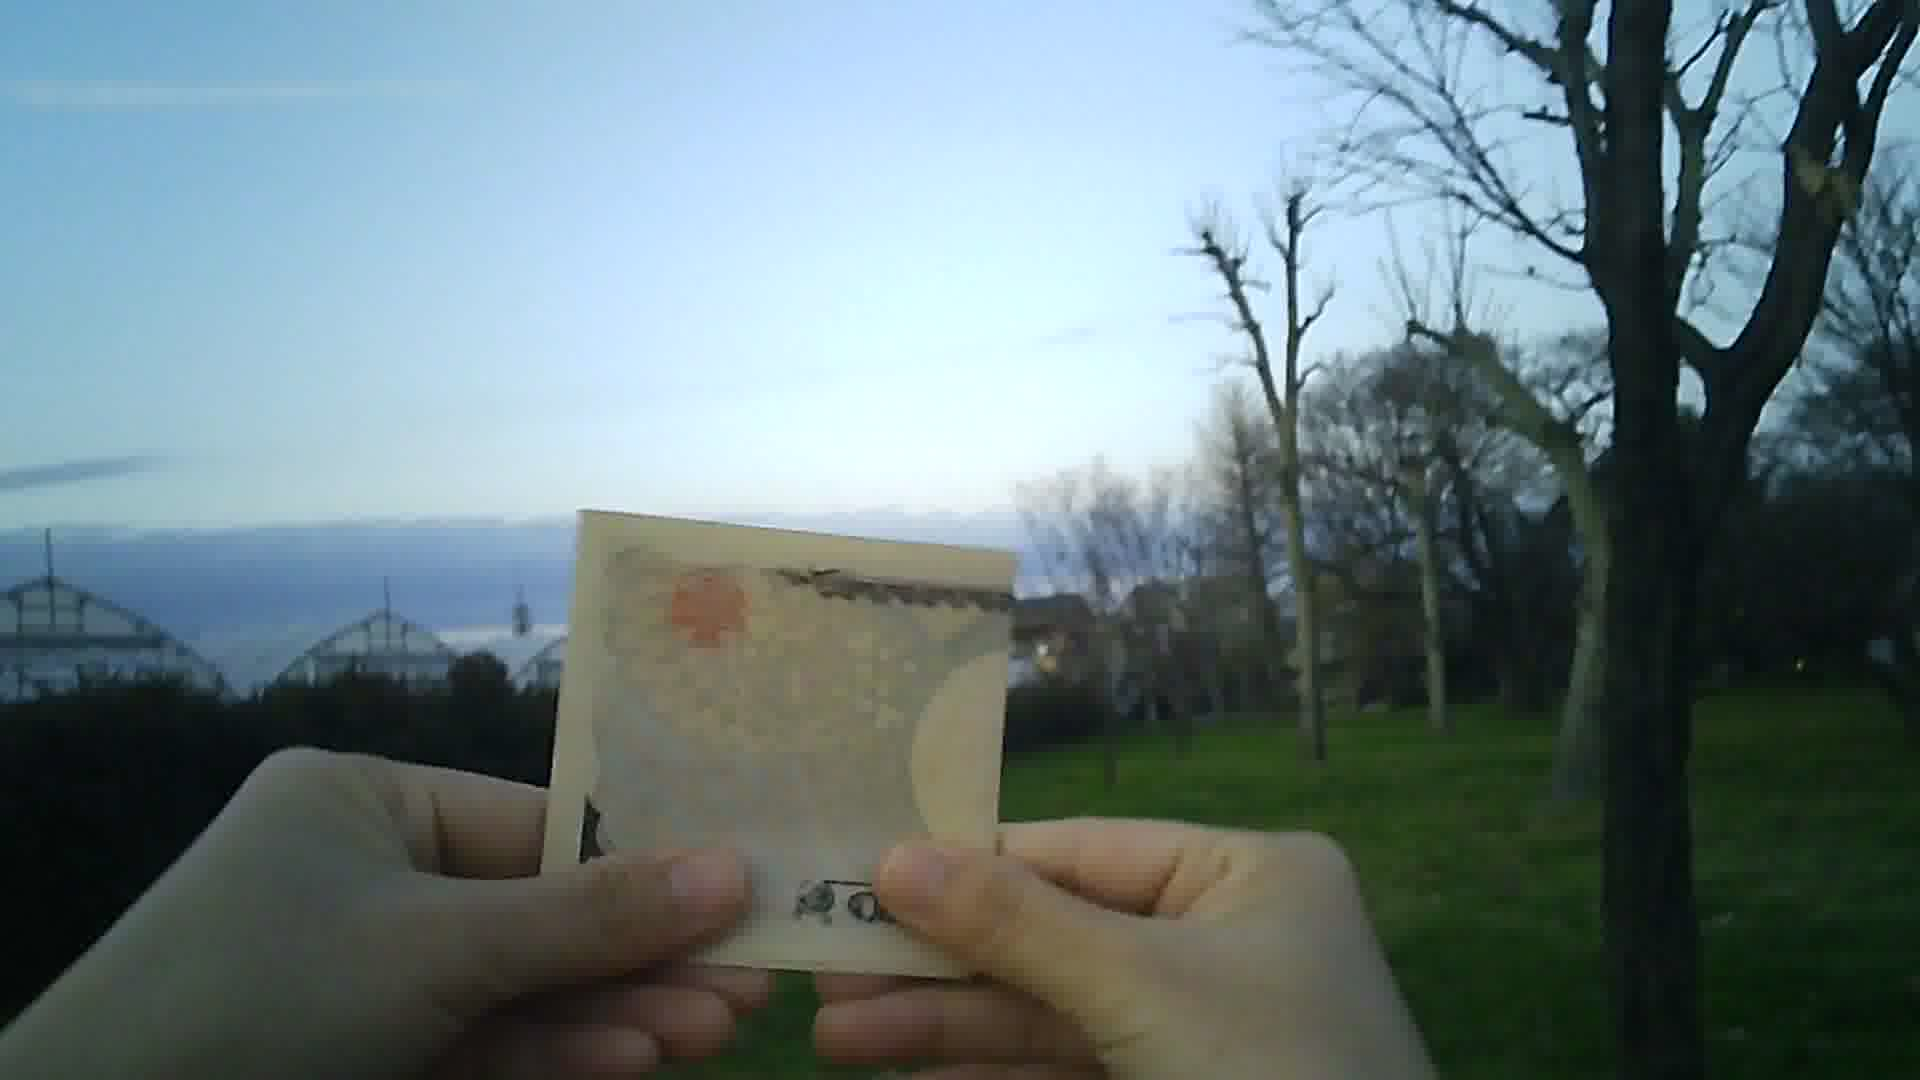10,000 Yen: (517, 491, 1077, 1005)
